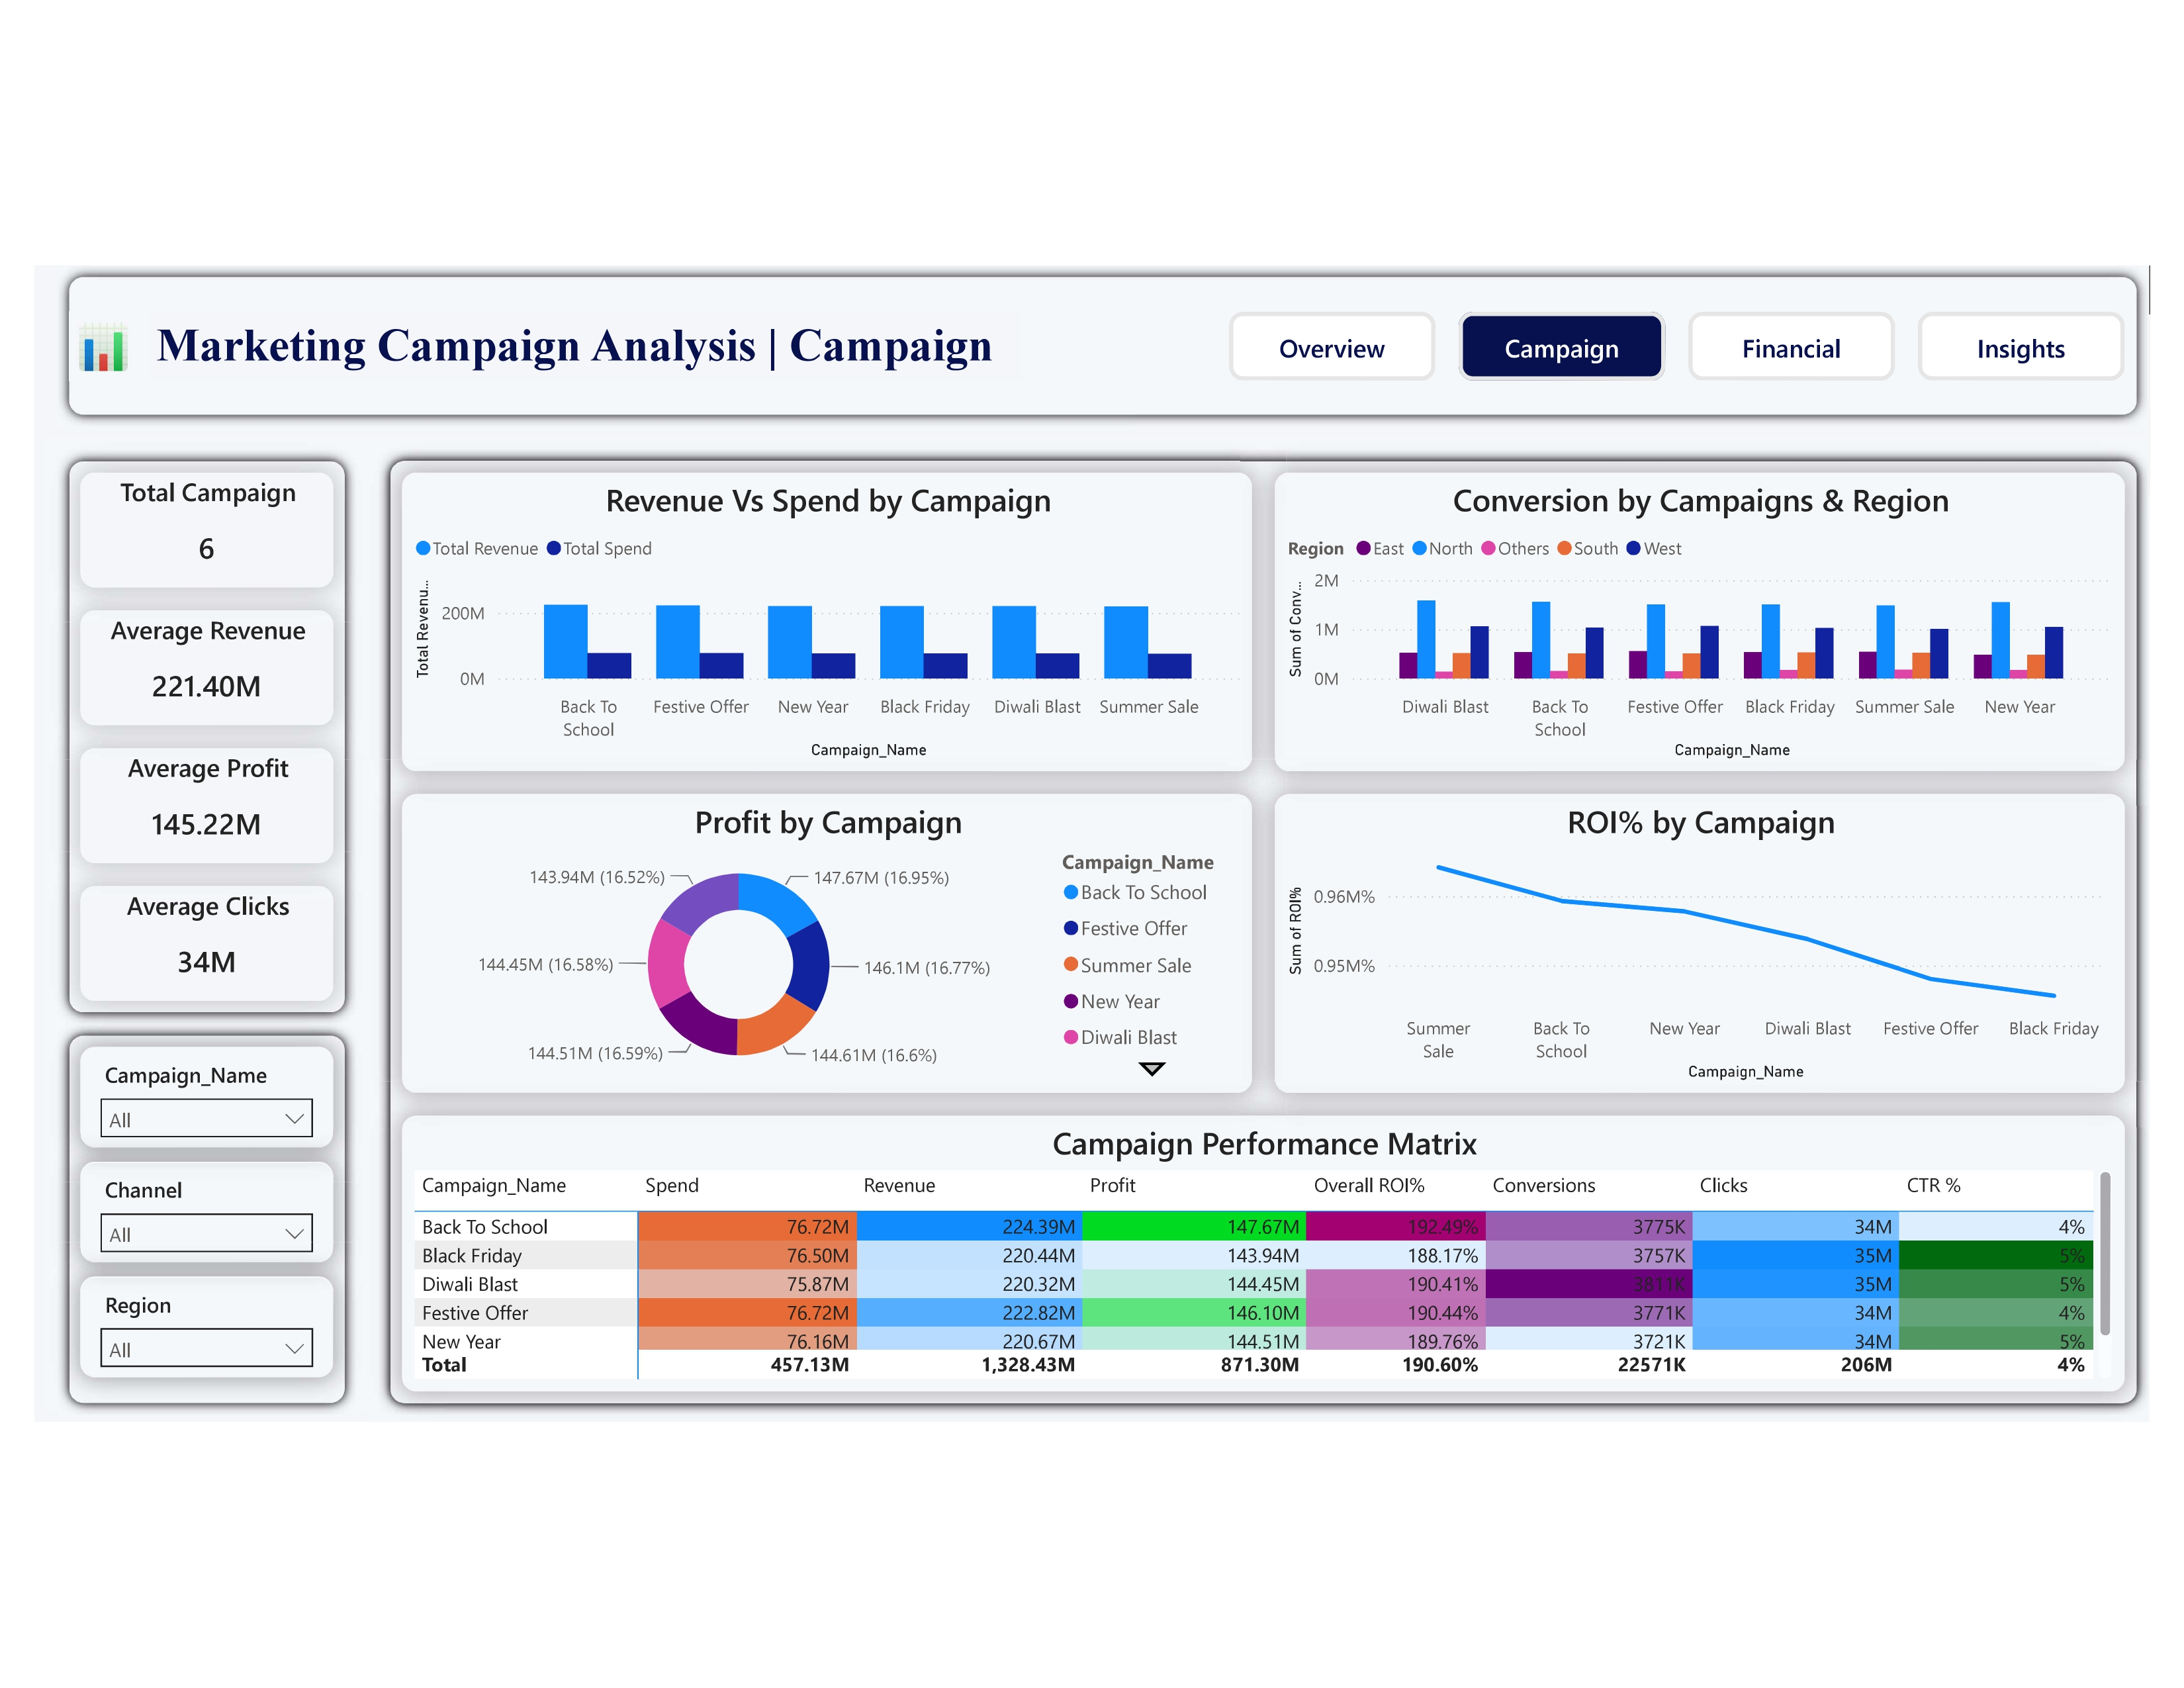

What the dashboard file says about the page in this screenshot:
{"tool":"powerbi","page":{"name":"Campaign Performance","canvas":[1473,805],"ordinal":1},"visuals":[{"type":"shape","box":[16,0,1456,112],"z":0},{"type":"textbox","box":[80,32,608,48],"z":1000},{"type":"actionButton","box":[832,32,144,48],"z":2000},{"type":"actionButton","box":[992,32,144,48],"z":3000},{"type":"actionButton","box":[1152,32,144,48],"z":4000},{"type":"shape","box":[16,128,208,400],"z":5000},{"type":"shape","box":[240,128,1232,672],"z":6000},{"type":"cardVisual","title":"Average Clicks","fields":{"Data":["Marketing_Campaign_Cleaned_Fina.Average Clicks per Campaign"]},"box":[32,432,176,80],"z":7000},{"type":"cardVisual","title":"Average Profit","fields":{"Data":["Marketing_Campaign_Cleaned_Fina.Average Profit per Campaign"]},"box":[32,336,176,80],"z":8000},{"type":"image","box":[16,32,64,48],"z":9000},{"type":"cardVisual","title":"Average Revenue ","fields":{"Data":["Marketing_Campaign_Cleaned_Fina.Average Revenue per Campaign"]},"box":[32,240,176,80],"z":10000},{"type":"cardVisual","title":"Total Campaign","fields":{"Data":["Count(Marketing_Campaign_Cleaned_Fina.Campaign_Name)"]},"box":[32,144,176,80],"z":11000},{"type":"clusteredColumnChart","title":"Revenue Vs Spend by Campaign","fields":{"Category":["Marketing_Campaign_Cleaned_Fina.Campaign_Name"],"Y":["Sum(Marketing_Campaign_Cleaned_Fina.Revenue)","Sum(Marketing_Campaign_Cleaned_Fina.Spend)"]},"box":[256,144,592,208],"z":12000},{"type":"clusteredColumnChart","title":"Conversion by Campaigns & Region","fields":{"Category":["Marketing_Campaign_Cleaned_Fina.Campaign_Name"],"Y":["Sum(Marketing_Campaign_Cleaned_Fina.Conversions)"],"Series":["Marketing_Campaign_Cleaned_Fina.Region"]},"box":[864,144,592,208],"z":13000},{"type":"donutChart","title":"Profit by Campaign","fields":{"Category":["Marketing_Campaign_Cleaned_Fina.Campaign_Name"],"Y":["Sum(Marketing_Campaign_Cleaned_Fina.Profit)"]},"box":[256,368,592,208],"z":14000},{"type":"lineChart","title":"ROI% by Campaign","fields":{"Category":["Marketing_Campaign_Cleaned_Fina.Campaign_Name"],"Y":["Sum(Marketing_Campaign_Cleaned_Fina.ROI%)"]},"box":[864,368,592,208],"z":15000},{"type":"pivotTable","title":"Campaign Performance Matrix","fields":{"Rows":["Marketing_Campaign_Cleaned_Fina.Campaign_Name"],"Values":["Sum(Marketing_Campaign_Cleaned_Fina.Spend)","Sum(Marketing_Campaign_Cleaned_Fina.Revenue)","Sum(Marketing_Campaign_Cleaned_Fina.Profit)","Marketing_Campaign_Cleaned_Fina.Overall ROI%","Sum(Marketing_Campaign_Cleaned_Fina.Conversions)","Sum(Marketing_Campaign_Cleaned_Fina.Clicks)","Marketing_Campaign_Cleaned_Fina.CTR %"]},"box":[256,592,1200,192],"z":16000},{"type":"shape","box":[16,528,208,272],"z":17000},{"type":"slicer","fields":{"Values":["Marketing_Campaign_Cleaned_Fina.Campaign_Name"]},"box":[32,544,176,70],"z":18000},{"type":"slicer","fields":{"Values":["Marketing_Campaign_Cleaned_Fina.Channel"]},"box":[32,624,176,70],"z":19000},{"type":"slicer","fields":{"Values":["Marketing_Campaign_Cleaned_Fina.Region"]},"box":[32,704,176,70],"z":20000},{"type":"actionButton","box":[1312,32,144,48],"z":21000}]}

Visuals, with their boxes on the page's 1473x805 design canvas (x1, y1, x2, y2). These are canvas units, not pixel positions in the 2184x1688 screenshot, which may show the page scaled, cropped or inside an application window:
shape: <bbox>16, 0, 1472, 112</bbox>
textbox: <bbox>80, 32, 688, 80</bbox>
actionButton: <bbox>832, 32, 976, 80</bbox>
actionButton: <bbox>992, 32, 1136, 80</bbox>
actionButton: <bbox>1152, 32, 1296, 80</bbox>
shape: <bbox>16, 128, 224, 528</bbox>
shape: <bbox>240, 128, 1472, 800</bbox>
"Average Clicks" cardVisual: <bbox>32, 432, 208, 512</bbox>
"Average Profit" cardVisual: <bbox>32, 336, 208, 416</bbox>
image: <bbox>16, 32, 80, 80</bbox>
"Average Revenue " cardVisual: <bbox>32, 240, 208, 320</bbox>
"Total Campaign" cardVisual: <bbox>32, 144, 208, 224</bbox>
"Revenue Vs Spend by Campaign" clusteredColumnChart: <bbox>256, 144, 848, 352</bbox>
"Conversion by Campaigns & Region" clusteredColumnChart: <bbox>864, 144, 1456, 352</bbox>
"Profit by Campaign" donutChart: <bbox>256, 368, 848, 576</bbox>
"ROI% by Campaign" lineChart: <bbox>864, 368, 1456, 576</bbox>
"Campaign Performance Matrix" pivotTable: <bbox>256, 592, 1456, 784</bbox>
shape: <bbox>16, 528, 224, 800</bbox>
slicer - Marketing_Campaign_Cleaned_Fina.Campaign_Name: <bbox>32, 544, 208, 614</bbox>
slicer - Marketing_Campaign_Cleaned_Fina.Channel: <bbox>32, 624, 208, 694</bbox>
slicer - Marketing_Campaign_Cleaned_Fina.Region: <bbox>32, 704, 208, 774</bbox>
actionButton: <bbox>1312, 32, 1456, 80</bbox>
